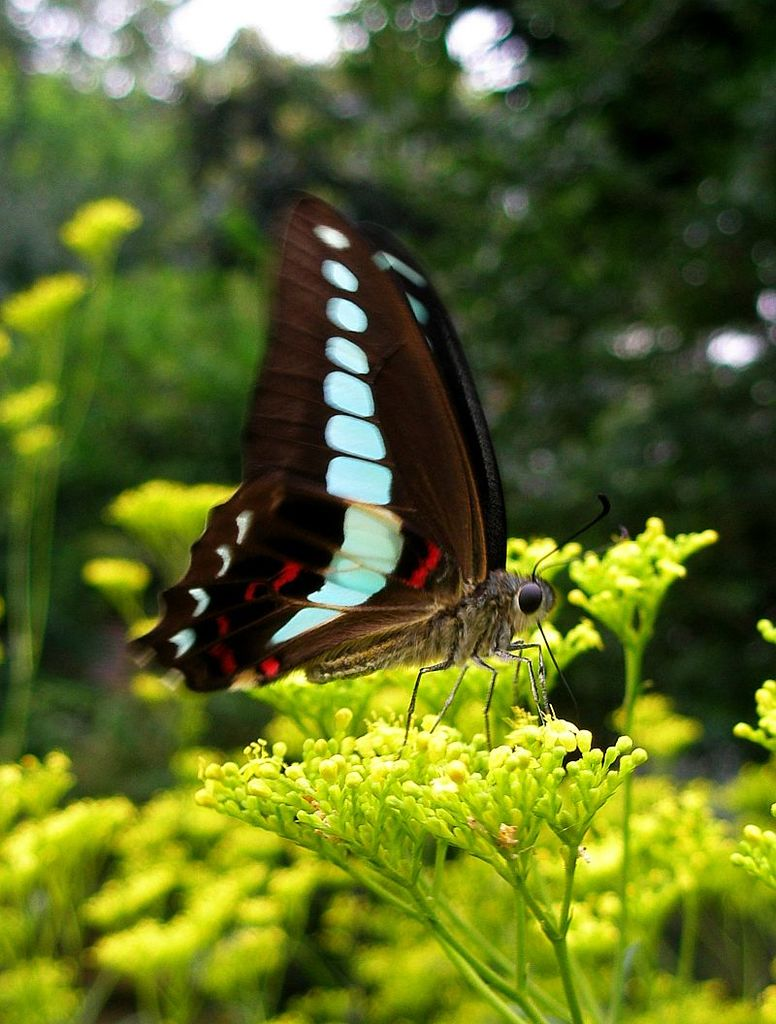Butterfly: (116, 173, 604, 765)
